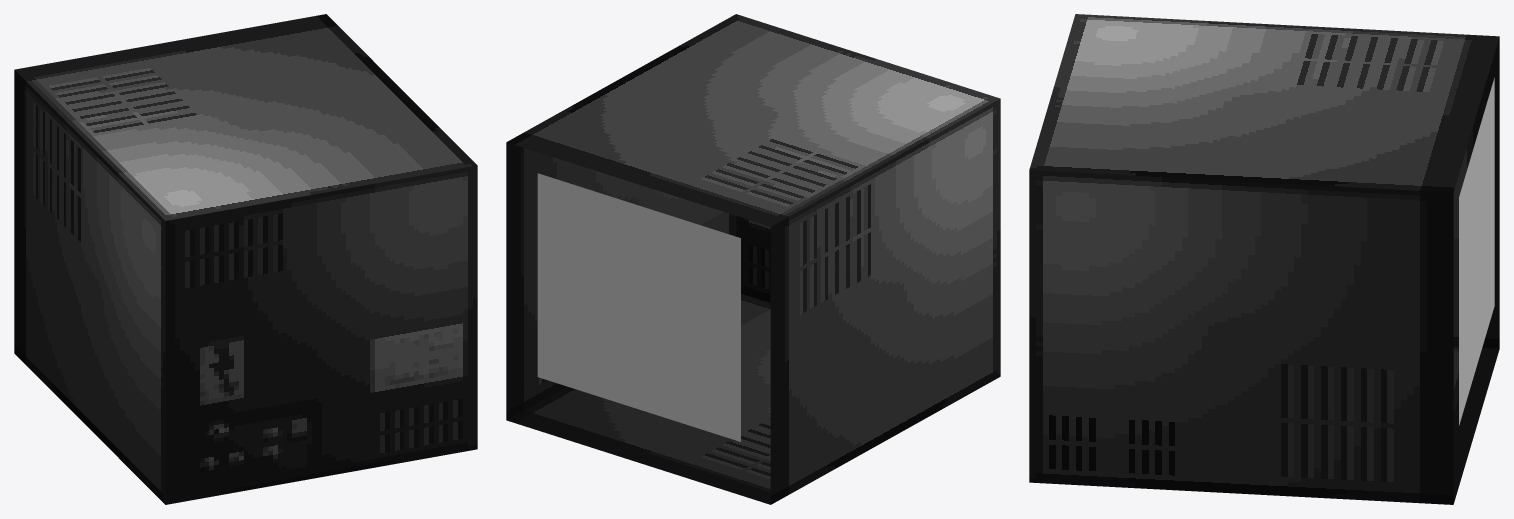
The model's file is primary_077.glb.
The picture shows the model from 3 angles, left to right: view 1: azimuth 30°, elevation 25°; view 2: azimuth 150°, elevation 25°; view 3: azimuth 270°, elevation 25°; orthographic projection. The views are drawn at different scales.
Visible parts, largest first — view 1: Object; view 2: Object; view 3: Object.
Boxes of the visible parts, x1,y1,x2,y2 form: Object: [14, 14, 477, 504]; Object: [506, 14, 1000, 504]; Object: [1029, 14, 1499, 504].
Bounding box in the file's own units: 0.797 × 0.6502 × 0.8873.
7 materials, 7 textured.
